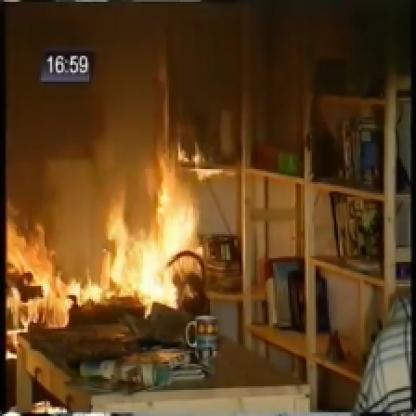fire: (88, 139, 199, 321), (0, 202, 94, 345), (15, 387, 122, 416)
